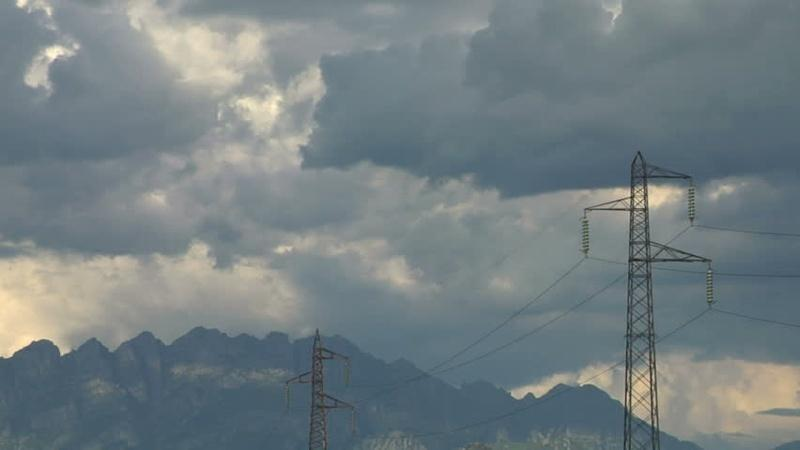power_tower: (573, 151, 715, 450), (282, 327, 358, 450)
